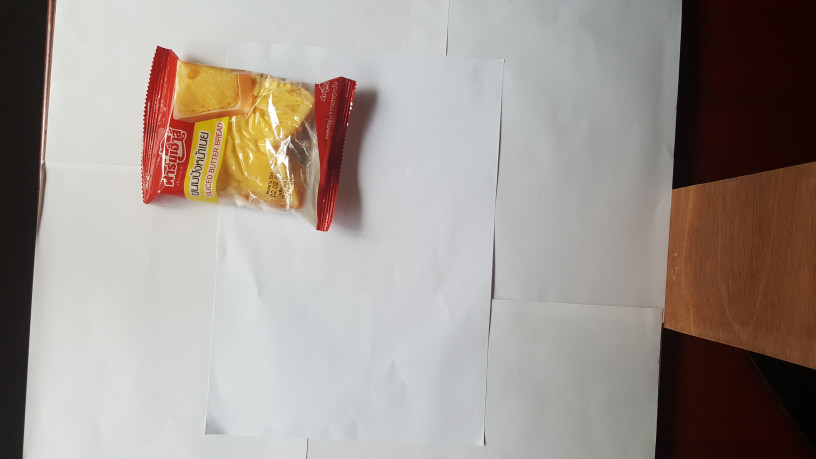farmhouse-bread-butter: (127, 43, 365, 236)
